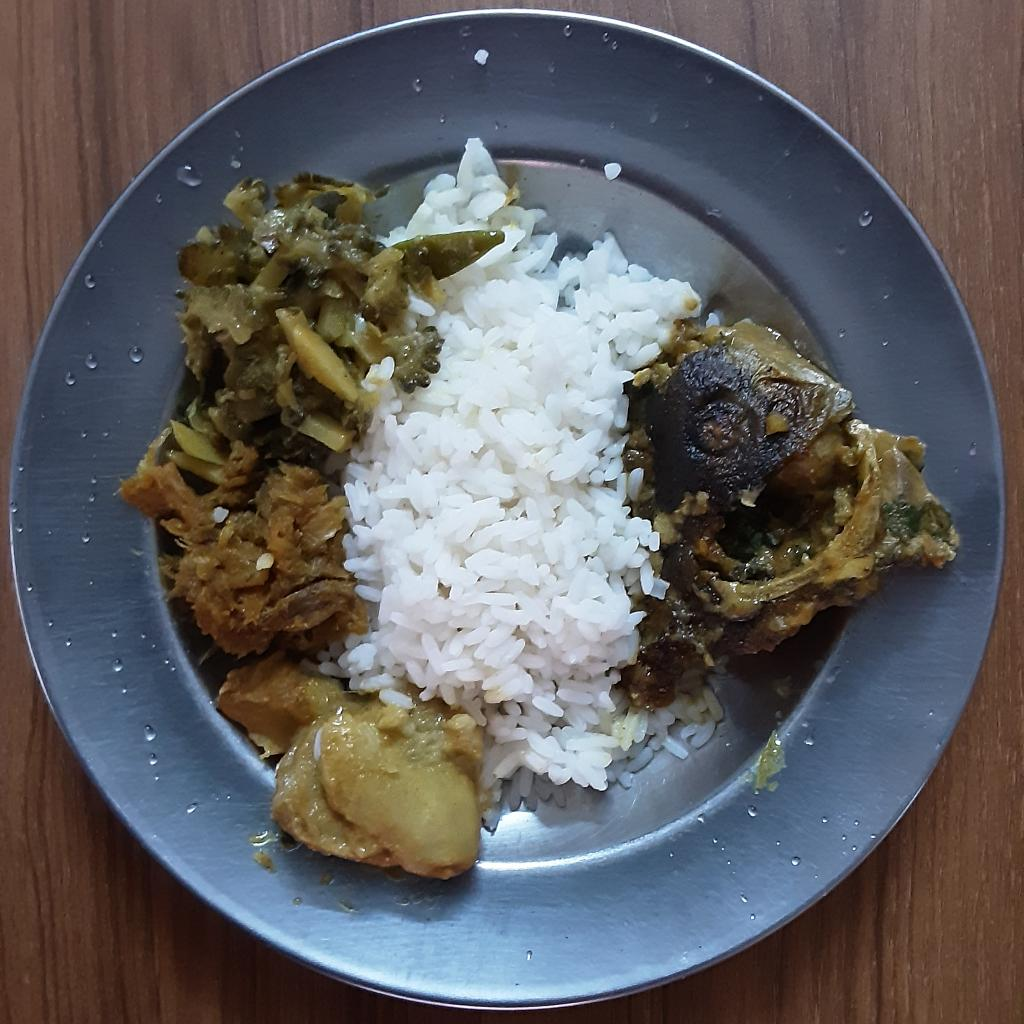fish: (618, 315, 960, 709)
kochu: (220, 656, 491, 881), (114, 441, 378, 658)
korola-vaji: (172, 174, 504, 482)
rice: (293, 140, 719, 828)
